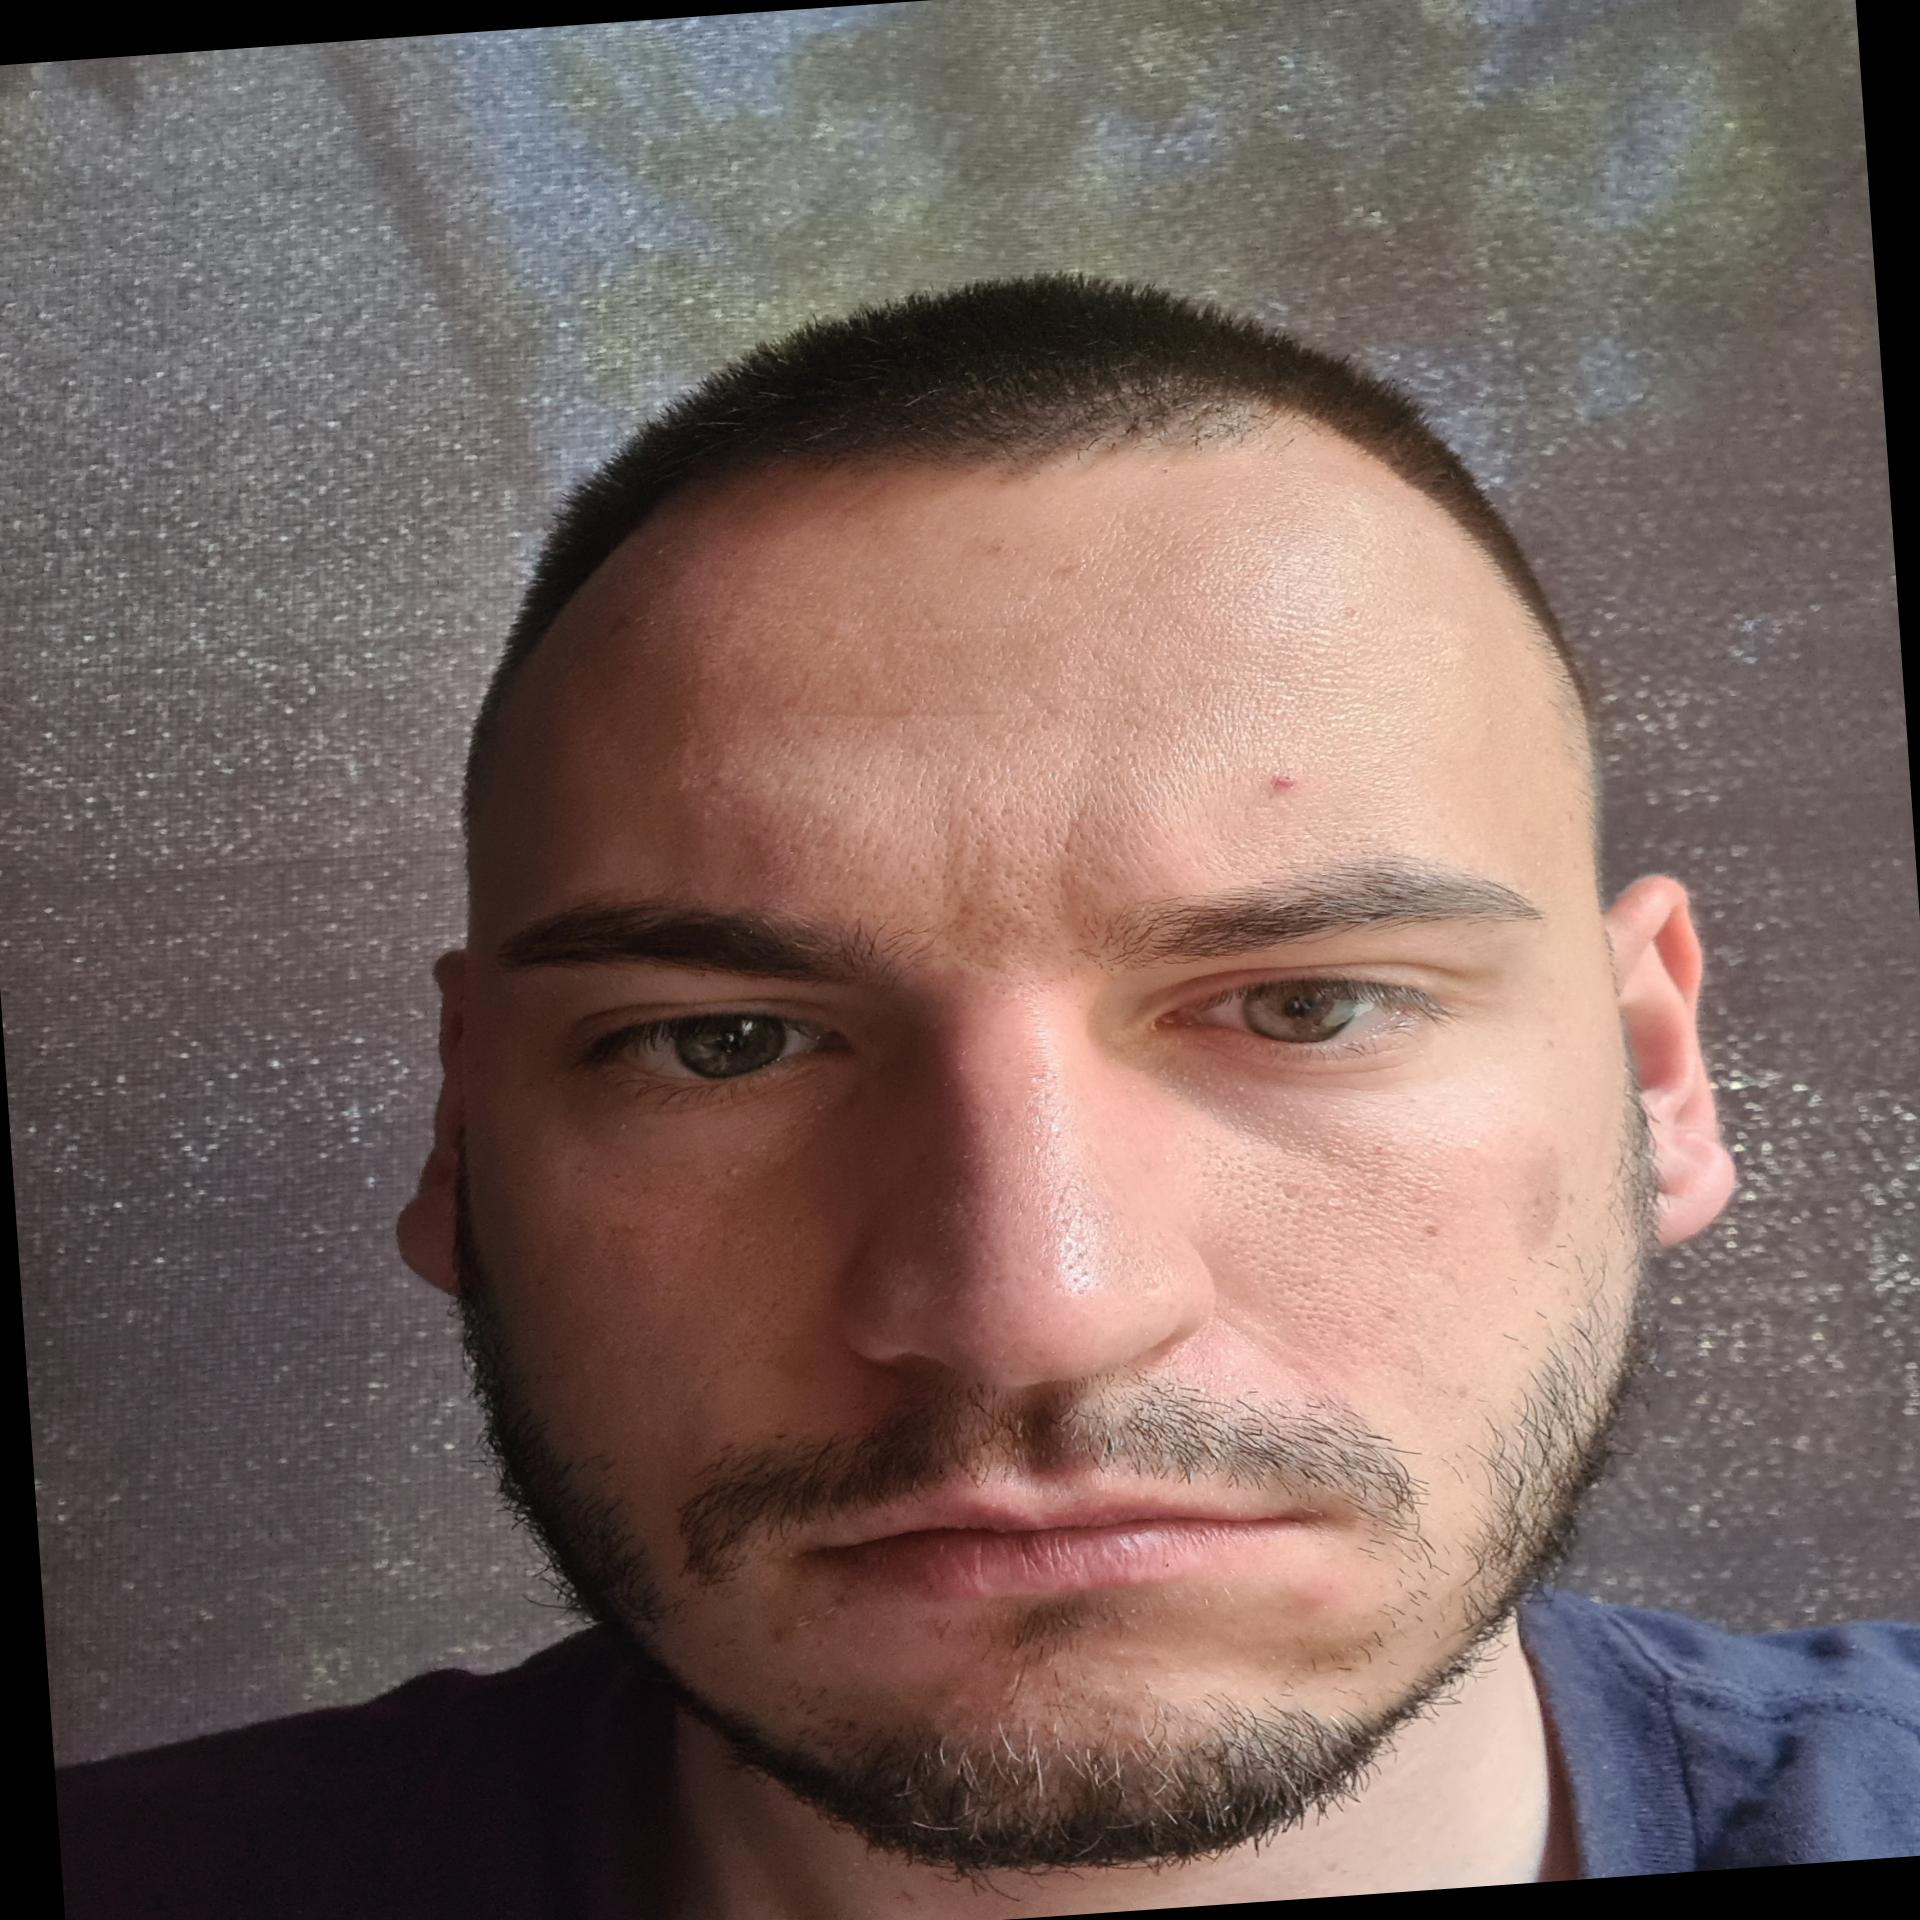Acne: (1289, 1570, 1354, 1623), (1268, 747, 1315, 802)
Englarged Pores: (1194, 1132, 1461, 1342), (930, 1080, 1106, 1329), (849, 795, 1074, 944), (756, 733, 1011, 821), (719, 1217, 846, 1391), (1015, 740, 1180, 805), (1053, 802, 1155, 895), (751, 816, 847, 911), (1118, 1220, 1180, 1327)
